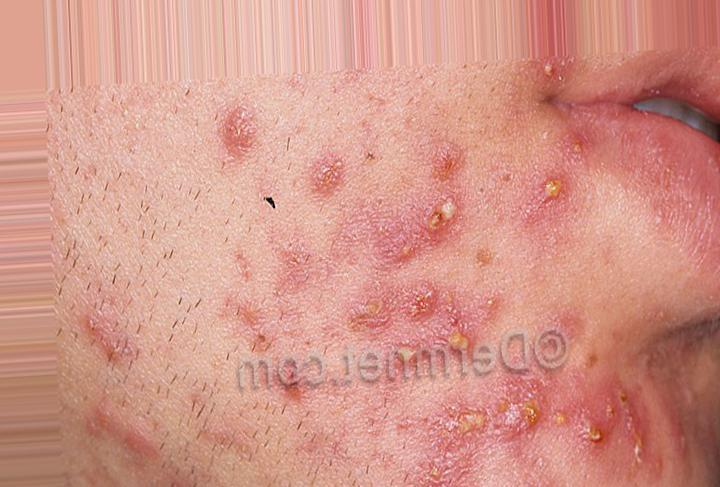Acne: (424, 376, 543, 456), (403, 140, 475, 272), (342, 262, 460, 337), (304, 139, 357, 209), (208, 111, 257, 150)
